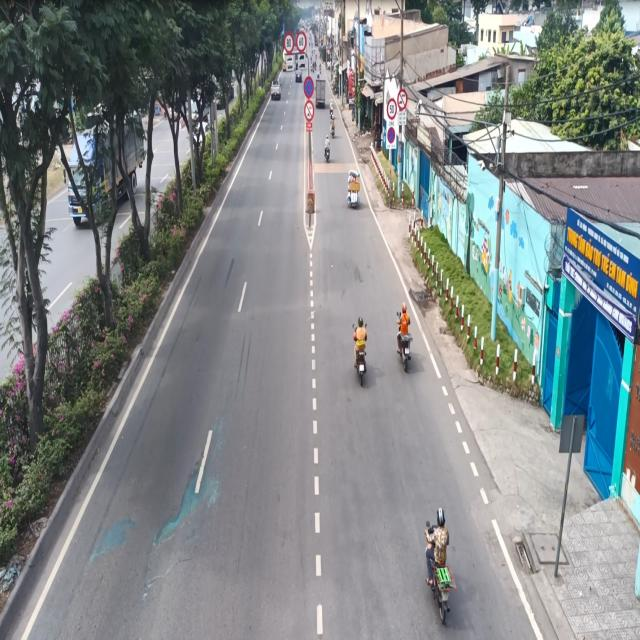motor: (422, 489, 454, 635), (394, 293, 417, 377), (352, 308, 373, 390)
